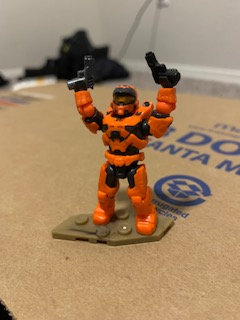pistol: (141, 49, 183, 89), (66, 55, 96, 94)
spartan: (72, 81, 177, 238)
up: (70, 78, 178, 154)
